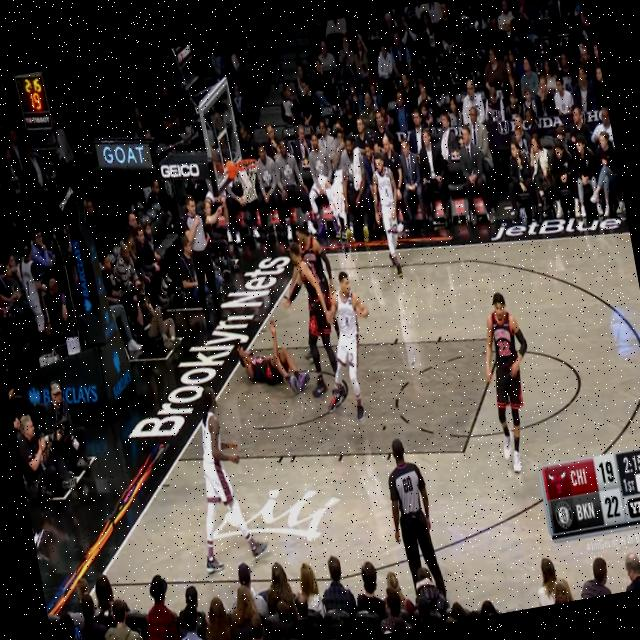no foul: (282, 214, 379, 427)
